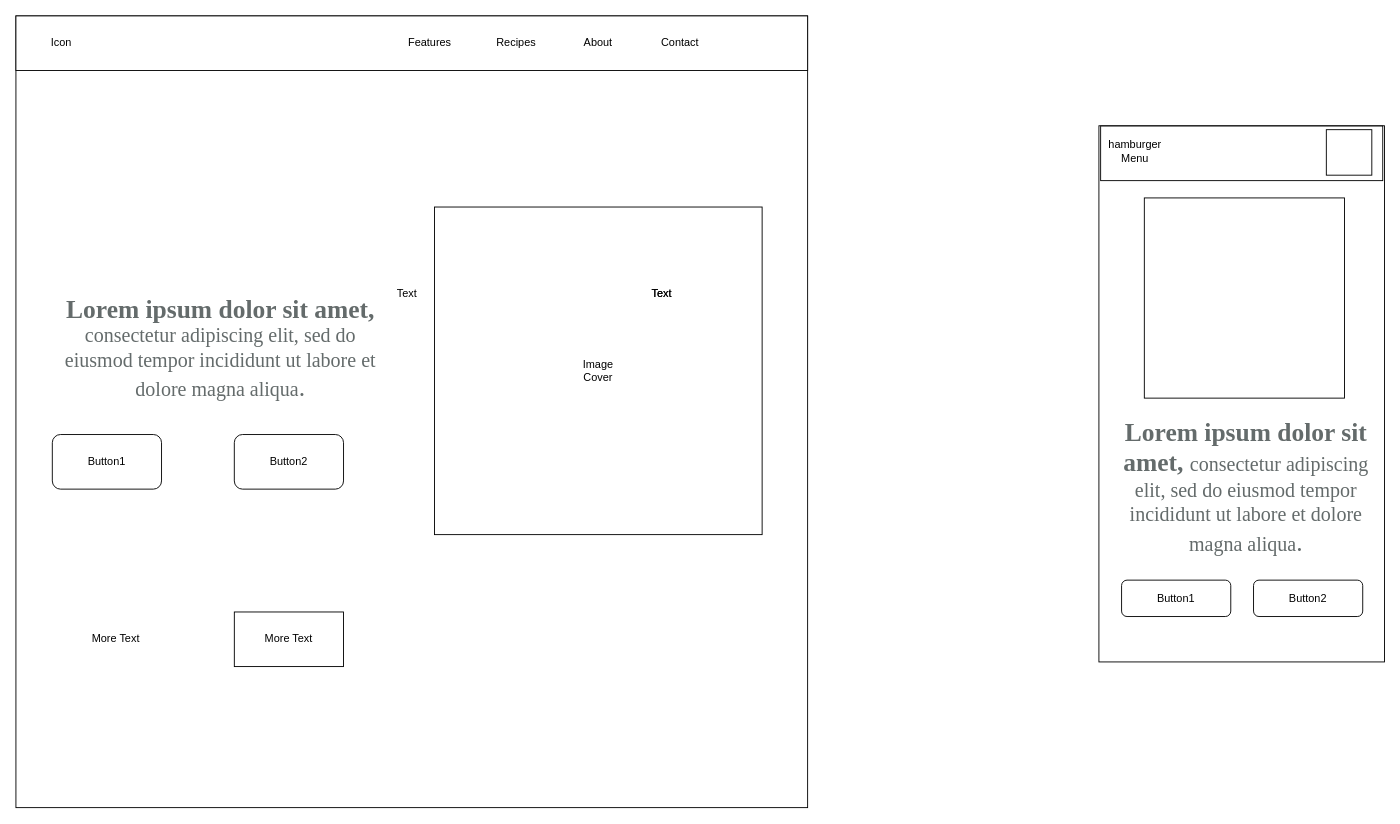
This 1400x824 diagram has some shape labels left out. Each missing label, with the centre of its shape:
"Image" belongs at point (1244, 297).
"Logo" belongs at point (1348, 152).
